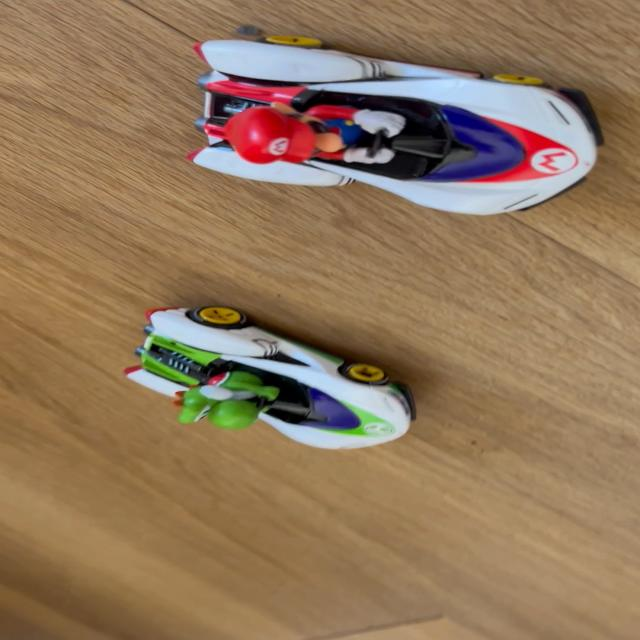mario: (182, 29, 622, 225)
yoshi: (143, 311, 436, 464)
